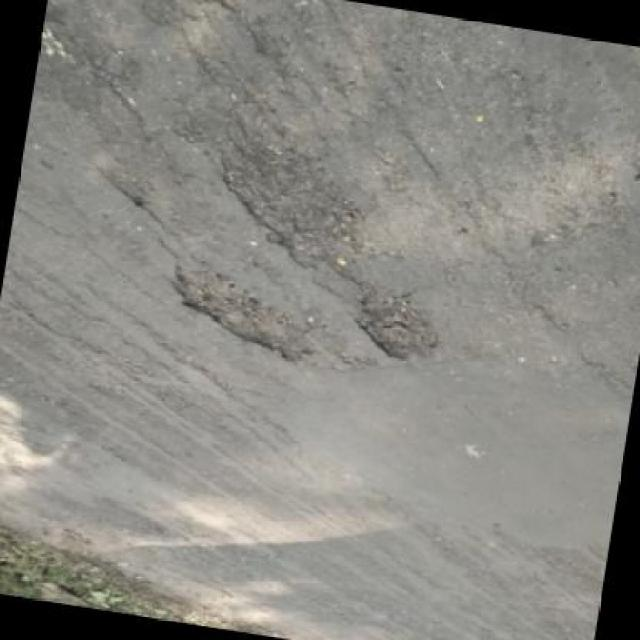pothole1: (203, 134, 382, 277), (158, 262, 328, 369), (345, 281, 450, 368)
